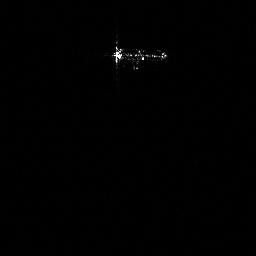ship: (112, 41, 169, 70)
